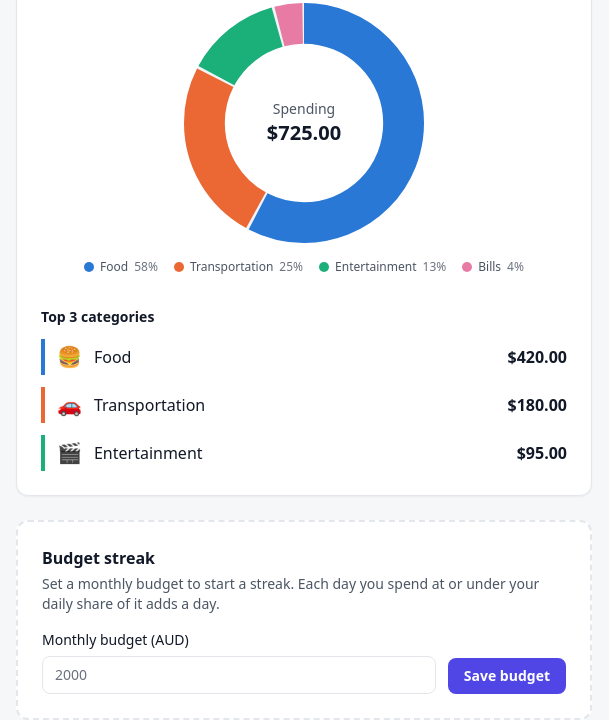
Test case: MonthlyInsights › rejects a budget of 10000001
(page scrolled)
Type "10000001" into the field labelled "Monthly budget (AUD)" at (239, 675), box [42, 656, 436, 694]
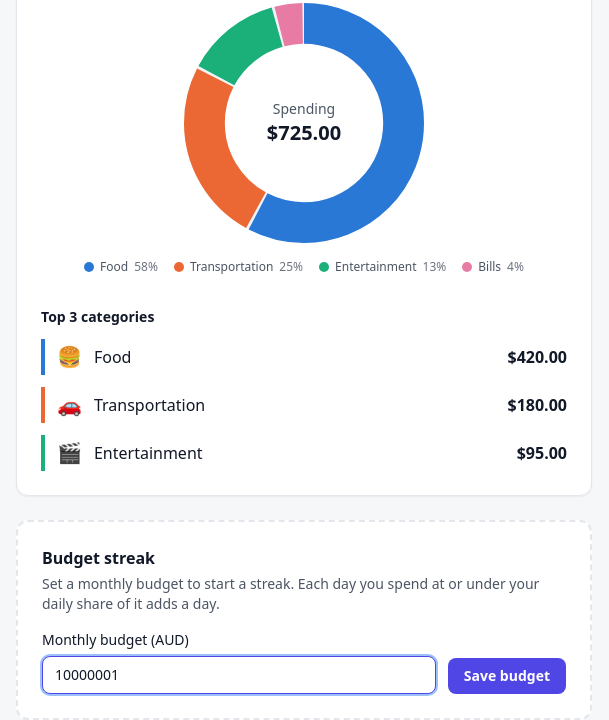
Click the button "Save budget" at (507, 676), box [448, 658, 566, 694]
(page scrolled)
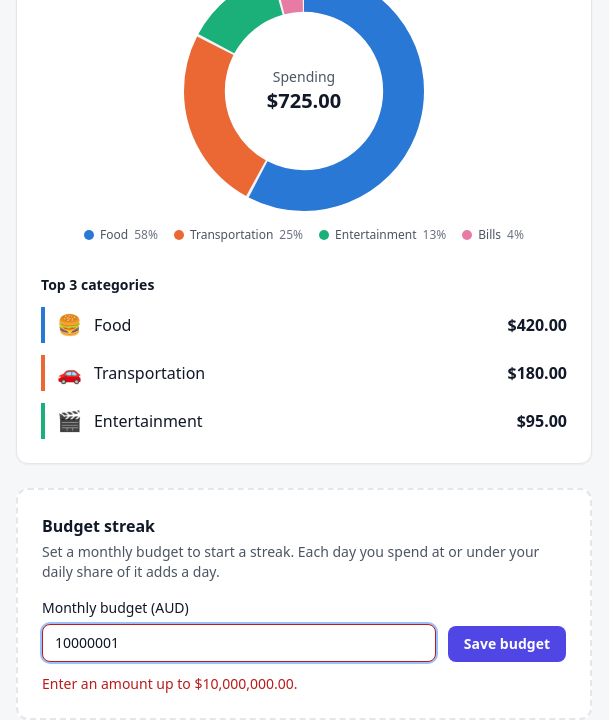
Result: the message shows "up to $10,000,000.00" at [42, 674, 298, 693]
